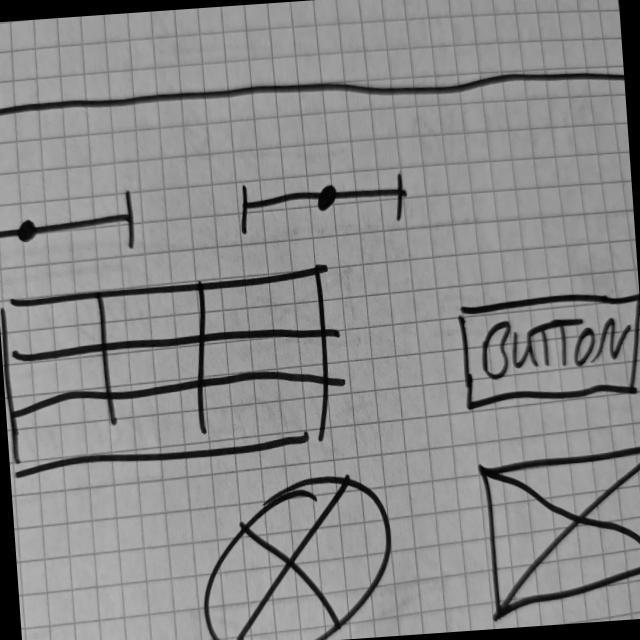button: (454, 286, 640, 417)
image: (192, 470, 401, 640), (478, 442, 640, 624)
slider: (236, 168, 412, 240), (1, 187, 142, 269)
table: (1, 261, 339, 478)
